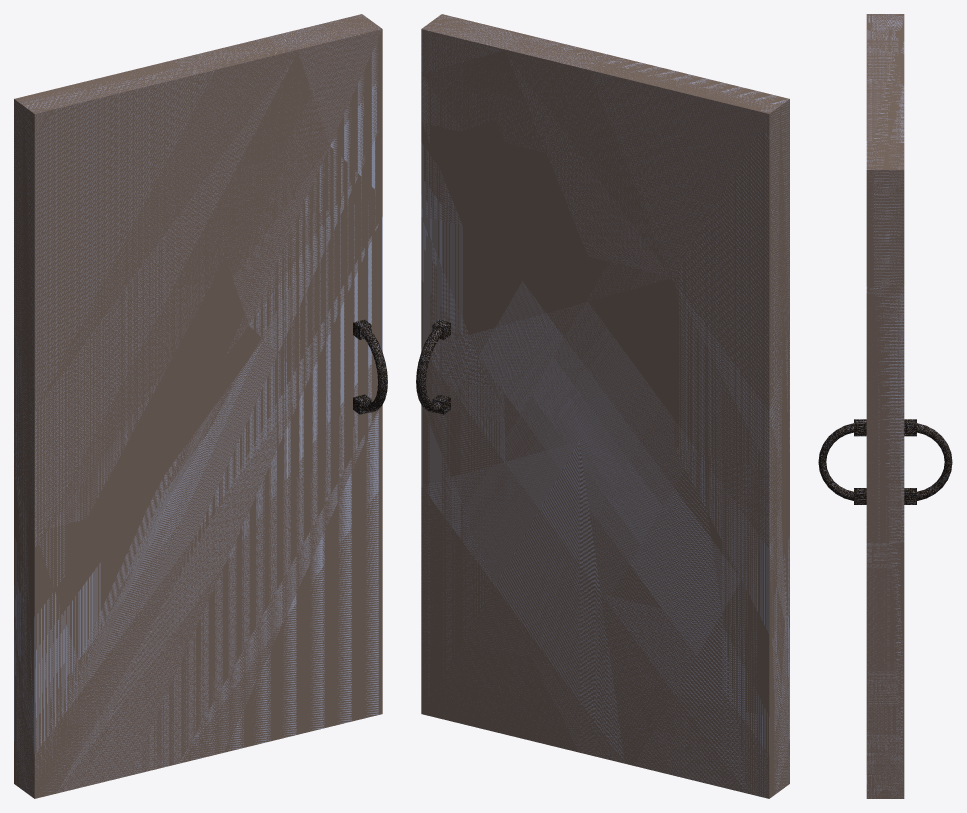
File: DOOR003.fbx
3 views of the same model, side by side, from view 1: azimuth 30°, elevation 25°; view 2: azimuth 150°, elevation 25°; view 3: azimuth 270°, elevation 25° (orthographic). The views are drawn at different scales.
Visible parts, largest first — view 1: Group2, Group3, Group5; view 2: Group2, Group3, Group4; view 3: Group3, Group4, Group5.
Boxes of the visible parts, x1,y1,x2,y2 form: Group2: (34, 29, 382, 798); Group3: (14, 14, 381, 798); Group5: (353, 319, 387, 414); Group2: (421, 29, 769, 798); Group3: (422, 14, 789, 798); Group4: (416, 319, 450, 414); Group3: (866, 14, 904, 798); Group4: (904, 419, 952, 504); Group5: (818, 419, 866, 504).
Bounding box in the file's own units: 58.5 × 110 × 21.25.
